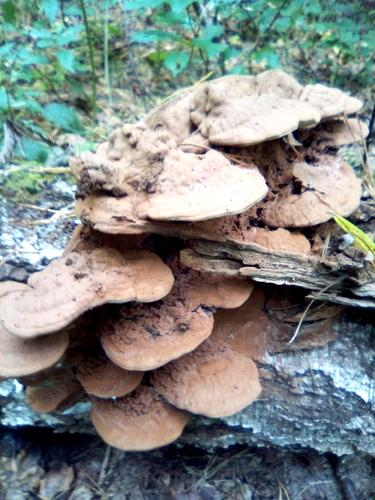Ganoderma - Fruit Body: (79, 145, 266, 240), (0, 247, 171, 336), (179, 61, 363, 143), (161, 342, 268, 419), (179, 259, 250, 309), (0, 334, 68, 378)
